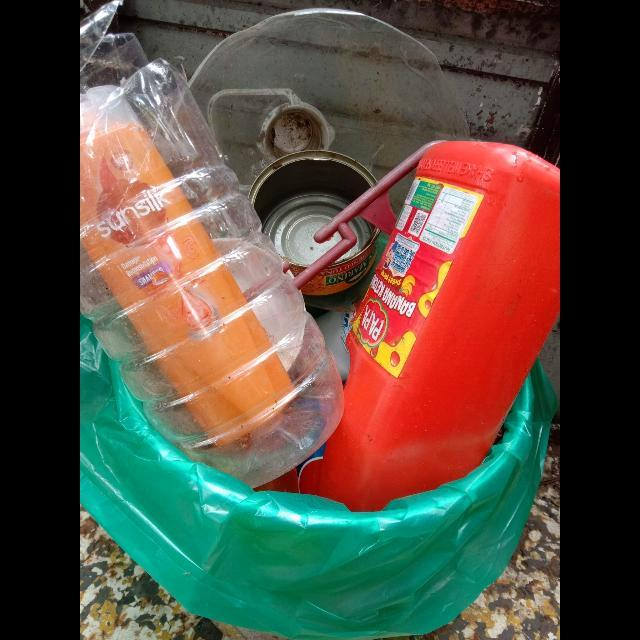aluminum: (248, 150, 386, 295)
plastic_bottle: (82, 0, 356, 493), (255, 141, 560, 510), (80, 84, 291, 451)
